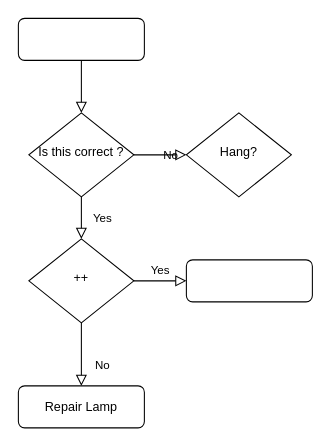
Some shapes in this 331 by 446 pixel diagram are drawn without their labels. The centre of each missing label's shape, as x and y in pixels:
"Enter a char" belongs at pixel 80 38.
"Replace Bulb" belongs at pixel 248 280.
